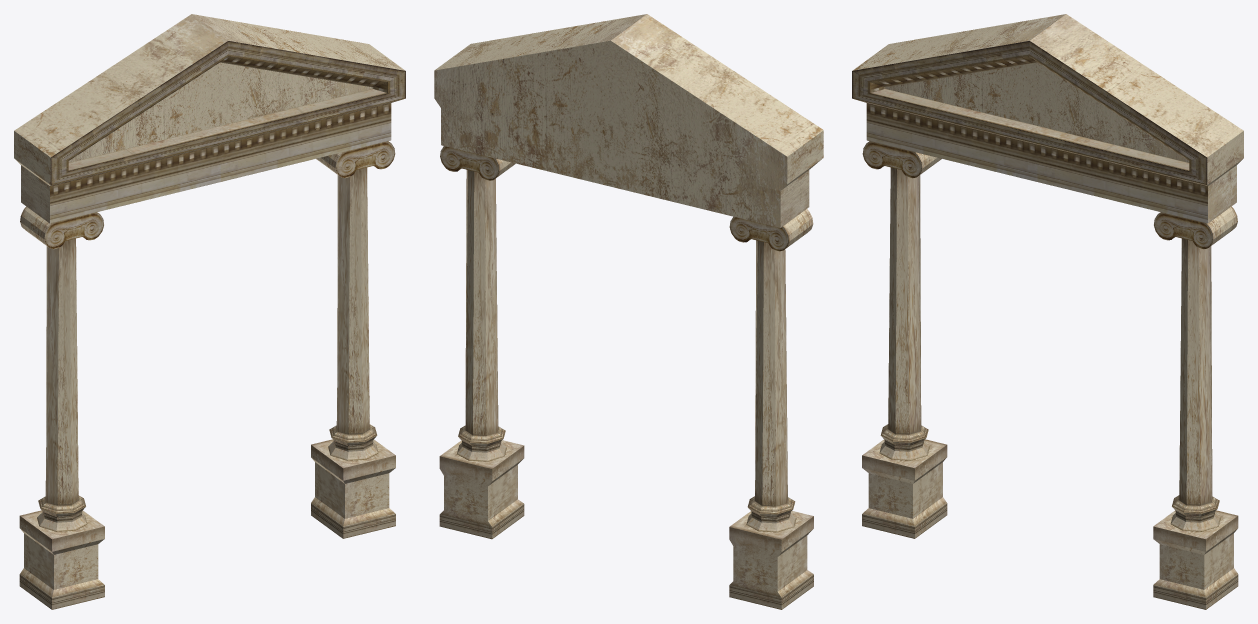
Rendered from svspartadoorway5.dae.
The picture shows the model from 3 angles, left to right: view 1: azimuth 30°, elevation 25°; view 2: azimuth 150°, elevation 25°; view 3: azimuth 330°, elevation 25°; orthographic projection.
Visible parts, largest first — view 1: unnamed_object34_sep62-0; view 2: unnamed_object34_sep62-0; view 3: unnamed_object34_sep62-0.
Boxes of the visible parts, x1,y1,x2,y2 form: unnamed_object34_sep62-0: [14, 14, 405, 609]; unnamed_object34_sep62-0: [434, 14, 823, 609]; unnamed_object34_sep62-0: [852, 14, 1243, 609].
Bounding box in the file's own units: 537 × 766 × 96.
